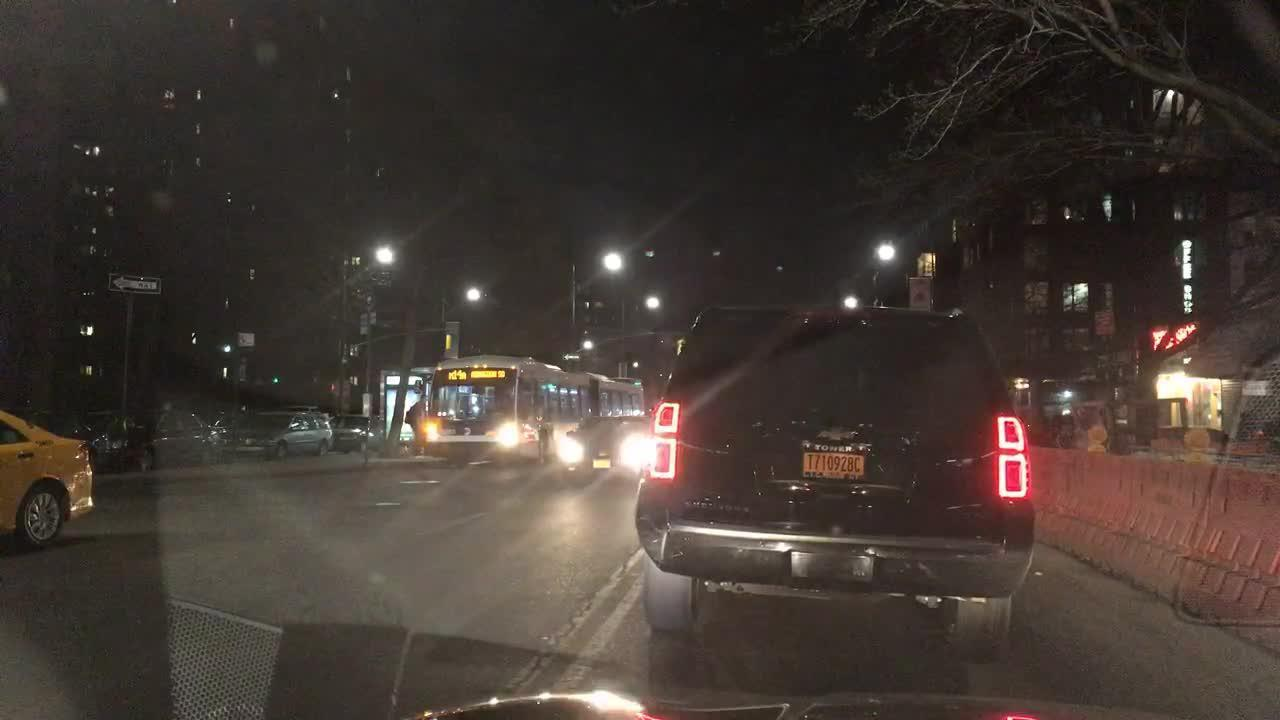chevrolet: (808, 415, 870, 454)
